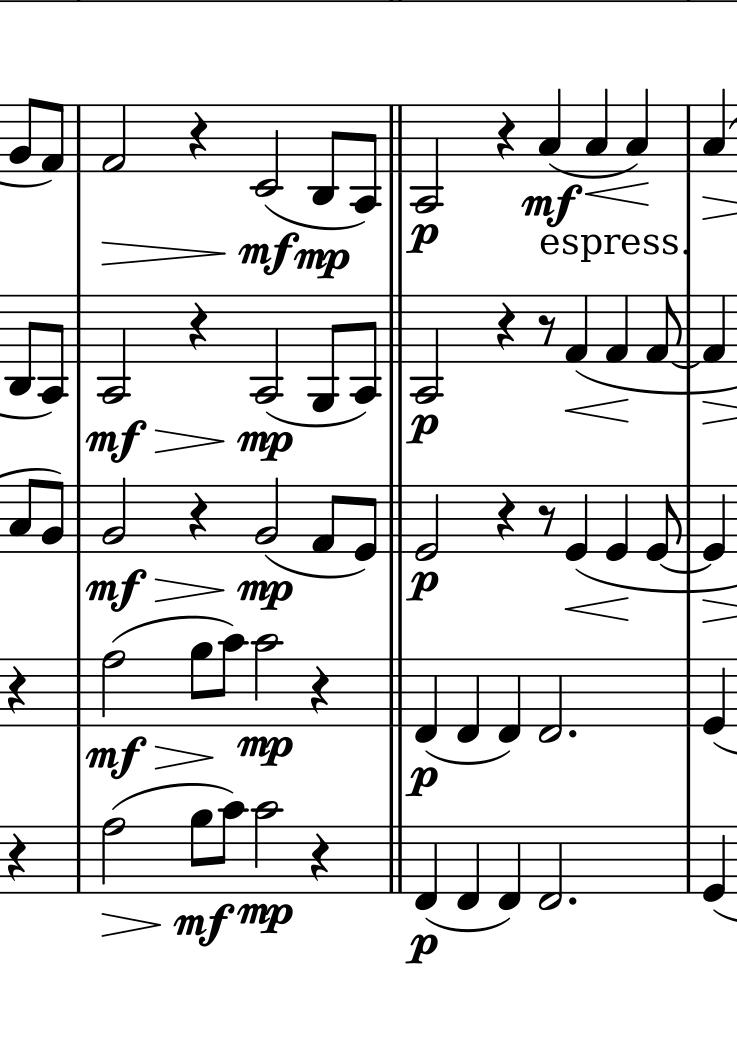2_-1: (538, 658, 567, 746), (537, 824, 566, 910)
2_-2: (252, 103, 281, 198)
2_-4: (413, 292, 444, 405), (250, 294, 281, 404), (99, 292, 129, 405), (412, 103, 442, 214)
2_0: (412, 484, 442, 561)
2_1: (100, 102, 130, 174)
2_10: (252, 799, 285, 896), (253, 632, 280, 729)
2_2: (254, 476, 281, 556), (103, 478, 127, 554)
2_8: (100, 648, 129, 730), (101, 817, 127, 896)
4_-1: (454, 824, 481, 910), (497, 823, 523, 910), (414, 824, 440, 910), (498, 657, 524, 742), (415, 657, 440, 745), (457, 657, 482, 744)
4_0: (564, 484, 592, 563), (700, 824, 728, 902), (605, 483, 632, 563), (702, 657, 727, 735), (702, 486, 726, 562)
4_1: (700, 293, 728, 365), (604, 294, 632, 365), (565, 291, 589, 365)
4_3: (585, 87, 611, 172), (703, 89, 729, 173), (625, 86, 650, 172), (537, 89, 562, 174)
8_-3: (311, 103, 344, 205), (8, 293, 40, 398)
8_-4: (37, 293, 67, 403), (352, 101, 381, 212), (352, 293, 380, 407)
8_-5: (310, 294, 346, 412)
8_0: (647, 486, 682, 562), (353, 484, 379, 561)
8_1: (645, 294, 683, 363), (312, 484, 344, 555), (43, 102, 64, 176)
8_10: (215, 800, 246, 896), (217, 631, 244, 728)
8_2: (9, 96, 40, 173), (40, 478, 67, 555)
8_3: (9, 478, 39, 554)
8_9: (186, 808, 212, 894), (188, 642, 213, 726)
Crescendo_hairpin: (585, 182, 651, 210), (565, 399, 629, 425), (564, 598, 629, 623)
Diminuendo_hairpin: (99, 241, 227, 269), (152, 428, 223, 454), (153, 577, 223, 602), (100, 911, 160, 940), (153, 745, 213, 769)
Double_barline: (382, 104, 411, 171), (385, 295, 410, 362), (384, 826, 409, 892), (385, 486, 409, 554), (385, 659, 409, 727)
Rests4: (306, 665, 332, 716), (186, 111, 209, 163), (187, 491, 210, 543), (6, 832, 29, 883), (309, 833, 332, 883), (493, 111, 516, 160), (6, 664, 29, 713), (494, 492, 516, 543), (495, 300, 515, 351), (188, 300, 207, 352)
Rests8: (534, 501, 558, 545), (535, 311, 555, 351)
Single_barline: (69, 658, 95, 727), (678, 104, 699, 173), (71, 295, 92, 363), (70, 825, 91, 892), (68, 104, 88, 173), (680, 658, 700, 726), (70, 487, 89, 553), (681, 485, 699, 554), (681, 294, 697, 365), (681, 826, 697, 894)
Slur: (573, 567, 737, 596), (575, 369, 737, 395), (110, 617, 233, 644), (264, 204, 364, 231), (265, 553, 366, 579), (265, 411, 369, 429), (548, 162, 634, 180), (659, 564, 717, 574)
dot: (564, 895, 581, 911), (567, 727, 579, 740)
mf: (85, 417, 150, 466), (519, 182, 587, 228), (85, 566, 147, 614), (82, 736, 148, 781), (170, 902, 234, 948), (240, 228, 297, 275)
mp: (234, 899, 303, 943), (240, 572, 297, 615), (294, 242, 356, 281), (238, 733, 292, 773), (236, 428, 303, 460)
p: (401, 929, 440, 967), (405, 570, 444, 607), (410, 409, 440, 454), (407, 220, 439, 260), (404, 764, 438, 798)
